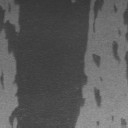red iron: (0, 0, 104, 128), (112, 40, 128, 78), (114, 2, 128, 25), (94, 87, 101, 106), (0, 73, 4, 84), (121, 118, 126, 126), (96, 121, 100, 126), (126, 32, 128, 41)
